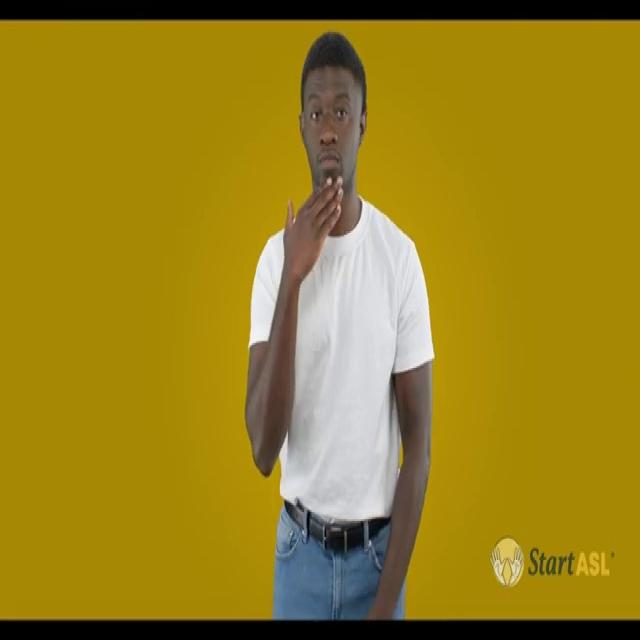thankyou: (276, 97, 358, 281)
